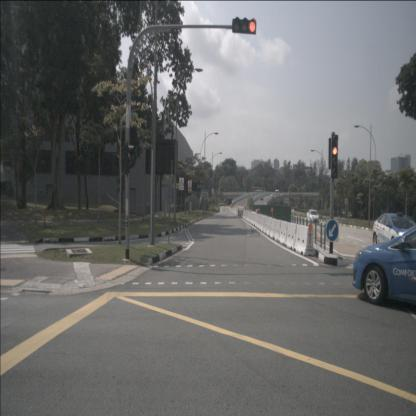movable_object-barrier: (293, 224, 316, 257), (284, 222, 298, 250), (278, 220, 289, 246), (273, 220, 282, 241), (269, 218, 276, 239), (266, 216, 272, 236), (263, 216, 269, 235), (260, 216, 266, 232), (258, 215, 263, 230), (256, 214, 261, 228), (254, 213, 258, 228), (252, 213, 256, 226), (251, 212, 255, 225), (248, 212, 252, 223), (245, 211, 249, 221), (250, 212, 253, 224), (247, 212, 250, 223), (244, 210, 247, 220), (243, 209, 245, 218)
movable_object-trafficcone: (237, 210, 240, 216), (239, 209, 241, 216)
vehicle-car: (352, 221, 416, 312), (372, 213, 416, 252), (306, 209, 319, 224)
